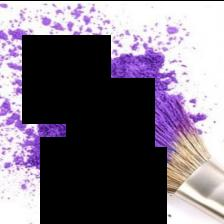purple: (27, 50, 209, 194)
